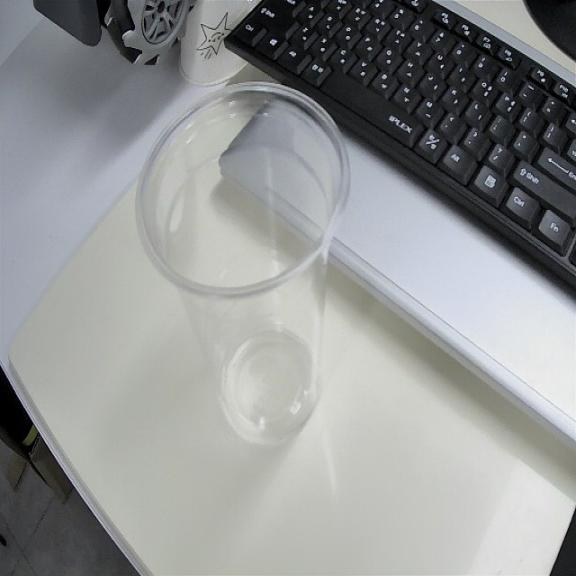Plastik: (136, 84, 350, 443)
